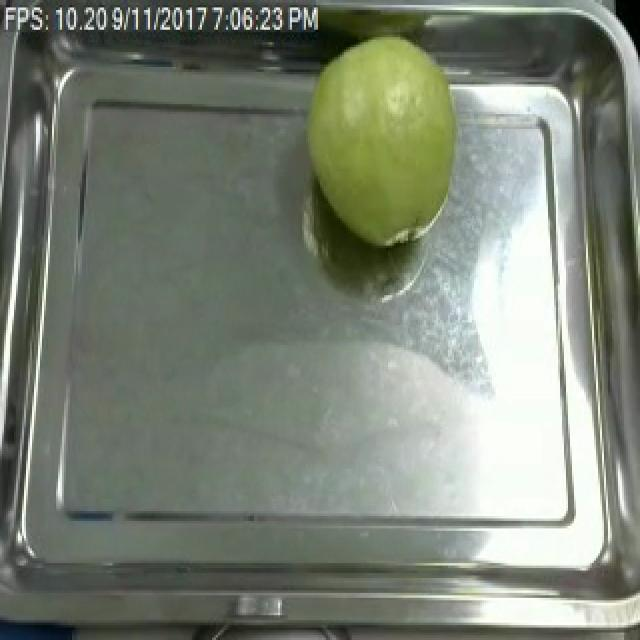Fruit: (296, 22, 468, 256)
